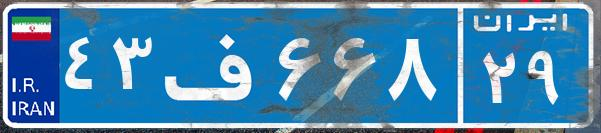2: (475, 38, 525, 113)
3: (110, 28, 158, 105)
4: (57, 26, 110, 107)
6: (273, 28, 330, 110), (330, 28, 385, 110)
8: (385, 28, 445, 110)
9: (525, 38, 570, 115)
ف: (158, 15, 273, 115)
